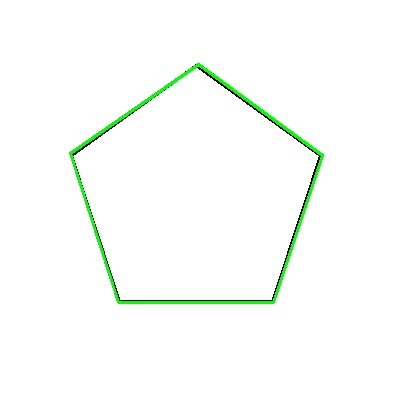line_segment: (69, 64, 323, 303)
